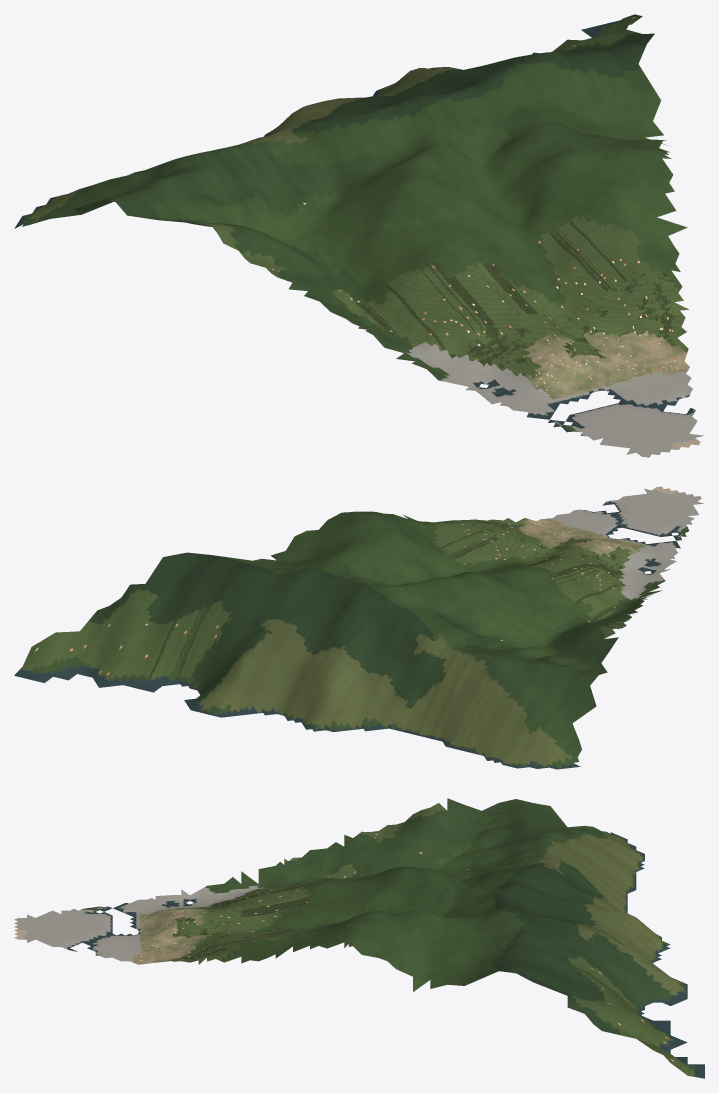
The model's file is SM_Fondale_Colline_SO_LOD1.fbx.
3 renders of one model, top to bottom at view 1: azimuth 30°, elevation 25°; view 2: azimuth 150°, elevation 25°; view 3: azimuth 270°, elevation 25°, orthographic. The views are drawn at different scales.
Visible parts, largest first — view 1: SM_Fondale_Colline_SO_LOD1; view 2: SM_Fondale_Colline_SO_LOD1; view 3: SM_Fondale_Colline_SO_LOD1.
Boxes of the visible parts, box(x1,y1,x2,y2) form: SM_Fondale_Colline_SO_LOD1: box(14, 14, 703, 457); SM_Fondale_Colline_SO_LOD1: box(14, 486, 703, 769); SM_Fondale_Colline_SO_LOD1: box(14, 798, 704, 1078).
Bounding box in the file's own units: 408000 × 483000 × 60027.
Materials: 1 (1 with a texture image).
